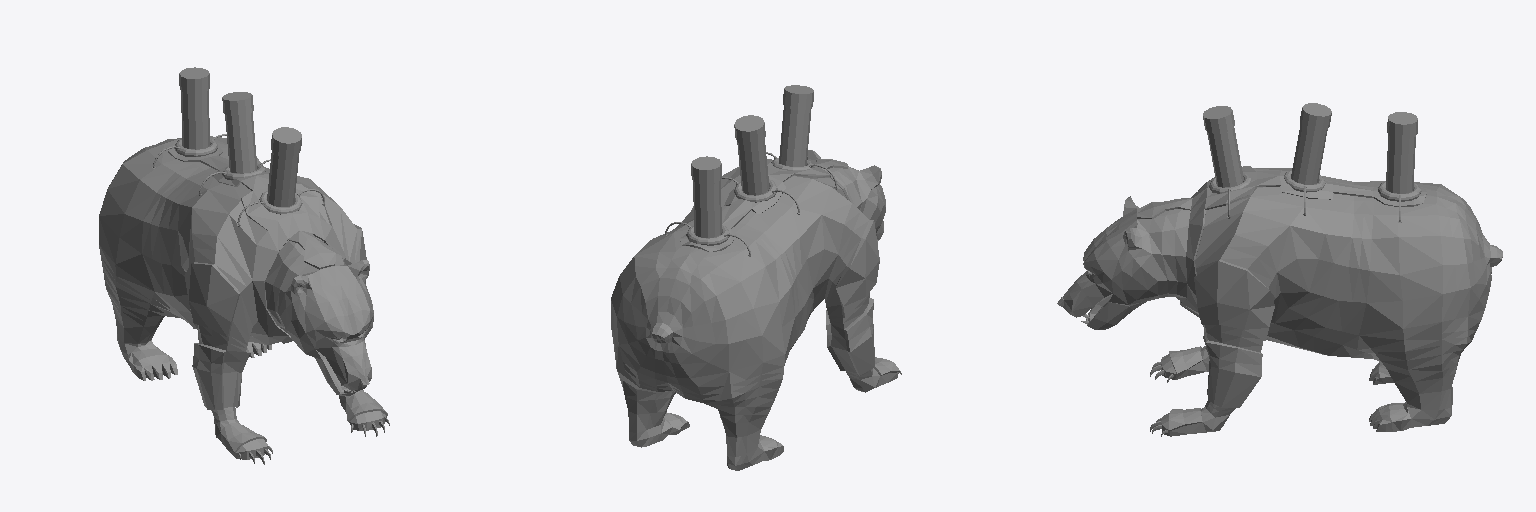
The model's file is bear.obj.
3 views of the same model, side by side, from view 1: azimuth 30°, elevation 25°; view 2: azimuth 150°, elevation 25°; view 3: azimuth 270°, elevation 25° (orthographic).
Visible parts, largest first — view 1: Bear, Left, Object006, Object008, Object009; view 2: Bear, Left, Object006; view 3: Bear, Right, Object002, Object009, Object008.
Boxes of the visible parts, <box> form: Bear: <box>99,67,389,464</box>; Left: <box>184,262,239,337</box>; Object006: <box>192,343,225,409</box>; Object008: <box>346,391,387,421</box>; Object009: <box>220,423,266,452</box>; Bear: <box>611,85,901,470</box>; Left: <box>836,220,879,318</box>; Object006: <box>844,298,874,375</box>; Bear: <box>1057,103,1502,436</box>; Right: <box>1194,260,1274,340</box>; Object002: <box>1206,340,1262,407</box>; Object009: <box>1169,346,1202,373</box>; Object008: <box>1169,408,1202,430</box>.
Size of the model in its own units: 121 by 208 by 284.